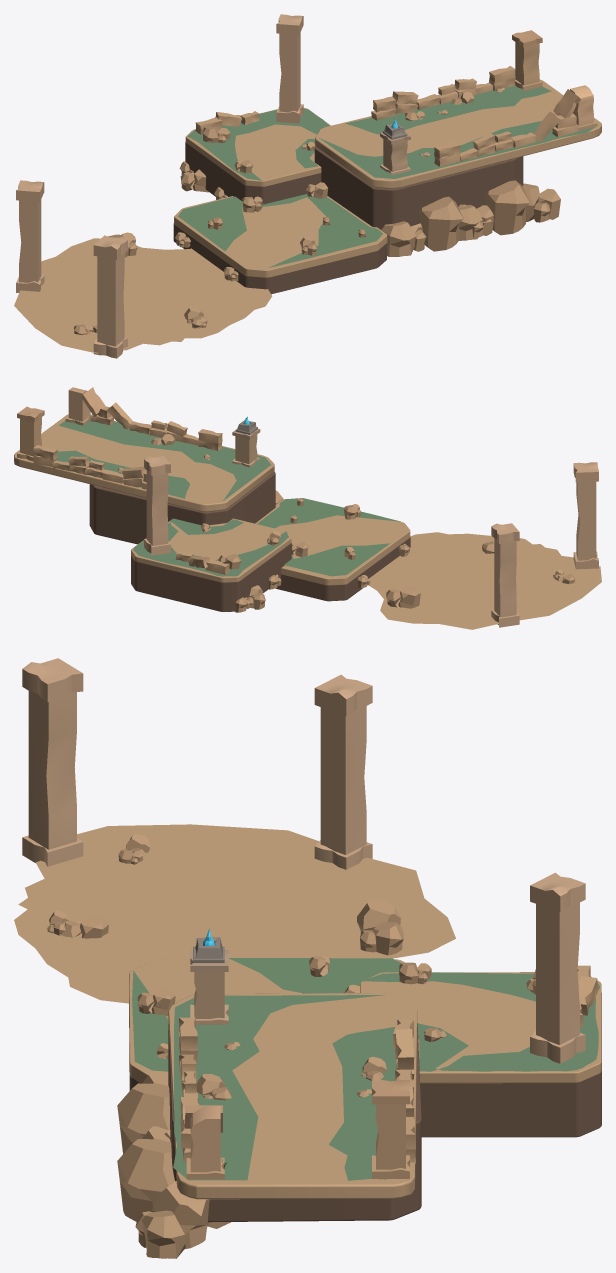
The model's file is level_1_block_1.gltf.
3 views of the same model, one above another, from view 1: azimuth 30°, elevation 25°; view 2: azimuth 150°, elevation 25°; view 3: azimuth 270°, elevation 25° (orthographic). The views are drawn at different scales.
Visible parts, largest first — view 1: Shape 16, plat3, Cube (×6), Shape (×2), Shape 7, plat1, Shape 2 (×2), menhir_mini (×4), plat2, Shape 20, Shape 21, Cube 2 (×3) (+1 smaller); view 2: Shape 16, plat3, Cube (×6), Shape 2 (×2), Shape (×2), Shape 7, plat1, plat2, Shape 21, Cube 2 (×3), Shape 20, menhir_mini (+2 smaller); view 3: Shape 16, Cube (×6), plat3, Shape (×2), menhir_mini (×6), plat2, Shape 2, Shape 21, Cube 2 (×4), Shape 7, Shape 20, plat1 (+1 smaller).
Boxes of the visible parts, bbox=[...] form: Shape 16: bbox=[14, 238, 272, 353]; plat3: bbox=[315, 79, 601, 188]; Cube (×6): bbox=[19, 32, 593, 346]; Shape (×2): bbox=[178, 108, 382, 267]; Shape 7: bbox=[314, 147, 523, 231]; plat1: bbox=[174, 196, 387, 277]; Shape 2 (×2): bbox=[173, 142, 386, 294]; menhir_mini (×4): bbox=[381, 180, 529, 256]; plat2: bbox=[185, 108, 330, 186]; Shape 20: bbox=[345, 85, 551, 134]; Shape 21: bbox=[319, 121, 597, 178]; Cube 2 (×3): bbox=[16, 14, 303, 259]; Shape 16: bbox=[369, 532, 601, 629]; plat3: bbox=[14, 414, 274, 511]; Cube (×6): bbox=[20, 387, 596, 617]; Shape 2 (×2): bbox=[131, 536, 410, 611]; Shape (×2): bbox=[133, 498, 400, 576]; Shape 7: bbox=[89, 472, 275, 544]; plat1: bbox=[255, 499, 410, 585]; plat2: bbox=[131, 518, 291, 582]; Shape 21: bbox=[59, 419, 271, 500]; Cube 2 (×3): bbox=[144, 456, 598, 543]; Shape 20: bbox=[57, 450, 189, 498]; menhir_mini: bbox=[398, 584, 420, 608]; Shape 16: bbox=[14, 824, 455, 1003]; Cube (×6): bbox=[28, 691, 579, 1172]; plat3: bbox=[168, 993, 417, 1199]; Shape (×2): bbox=[132, 958, 599, 1071]; menhir_mini (×6): bbox=[117, 900, 403, 1258]; plat2: bbox=[360, 972, 601, 1083]; Shape 2: bbox=[420, 993, 601, 1137]; Shape 21: bbox=[173, 995, 384, 1180]; Cube 2 (×4): bbox=[22, 658, 585, 1104]; Shape 7: bbox=[168, 1023, 421, 1222]; Shape 20: bbox=[329, 1027, 396, 1180]; plat1: bbox=[129, 959, 404, 1083].
Size of what is drawn, in the model's own units: 15.89 by 4.11 by 8.33.
